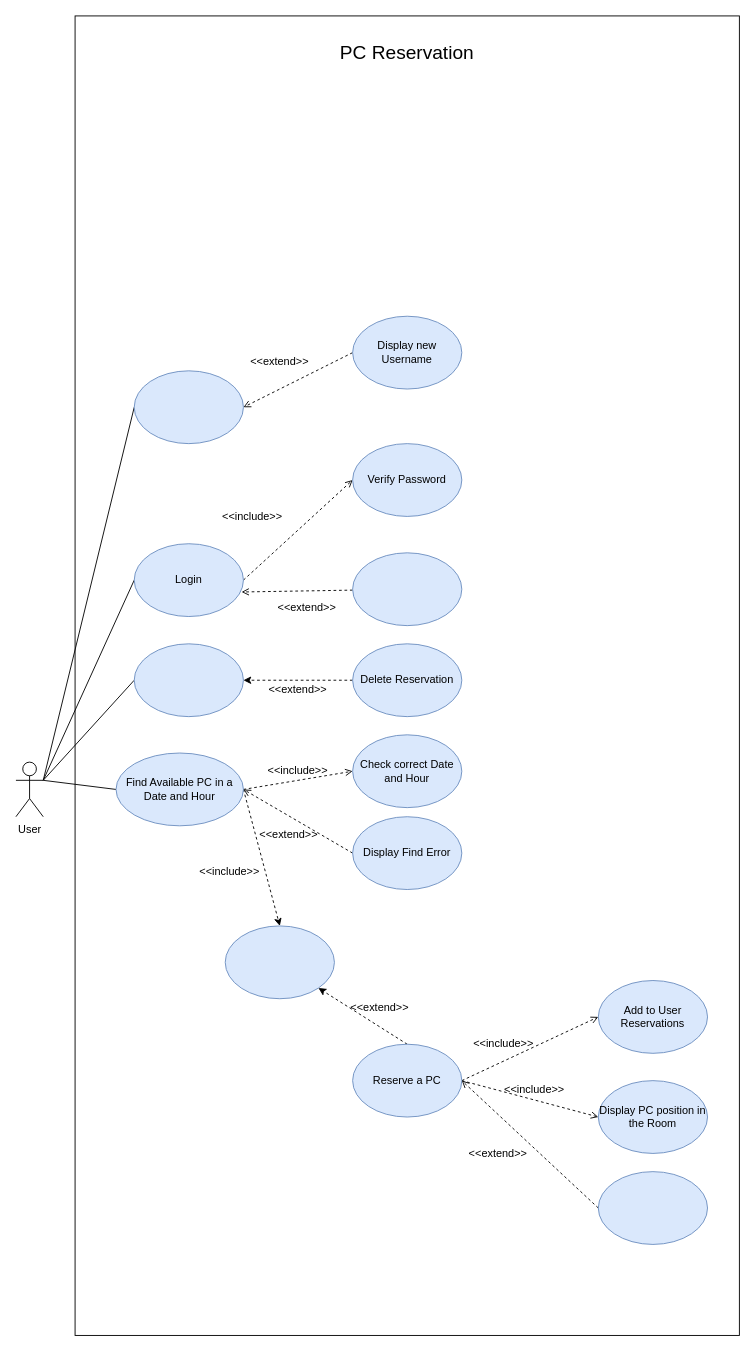
Some shapes in this 755 by 1351 pixel diagram are drawn without their labels. The box of each missing label's shape, as (x1, y1, x2, y2) in pixels:
Display Login Error: (352, 552, 462, 626)
Display Reservation Error: (597, 1171, 708, 1244)
Sign up: (133, 370, 243, 444)
View Availabe Rooms and PCs: (224, 925, 334, 999)
View Reservations: (133, 643, 243, 717)
